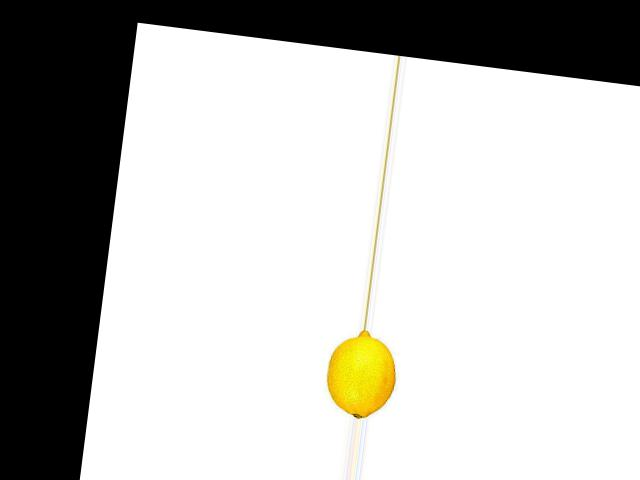lemon: (322, 327, 401, 421)
